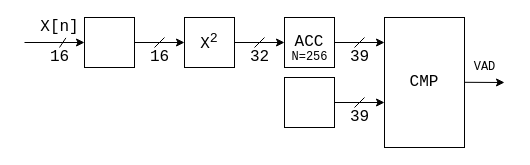
The diagram is 530 pixels wide and 165 high, and some of its shapes have lost their labels. Each missing label, with the box of its shape:
E th: (284, 76, 334, 128)
|X|: (84, 16, 134, 68)
